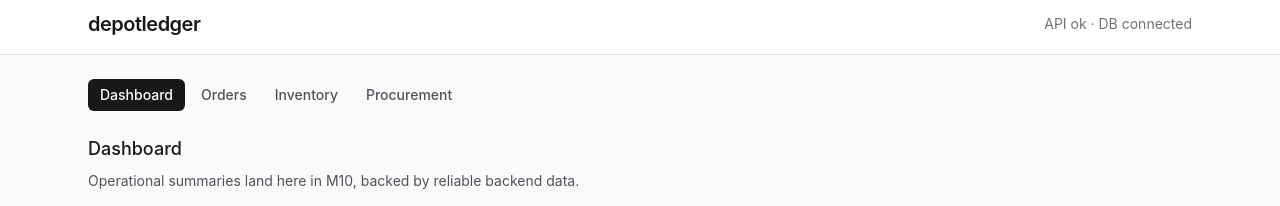
Test: App › switches section content when a tab is selected
The width and height of the screenshot is (1280, 206).
What coordinates should you click on to do the following:
click the tab "Inventory"
I would click on:
 (306, 95)
Its box is [263,79,350,111].
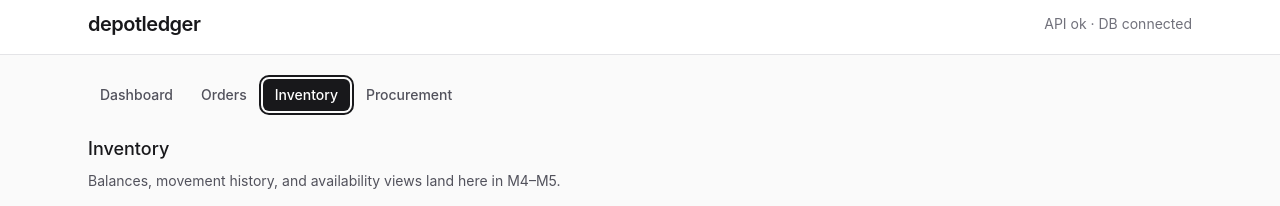
Expected: the text "movement history" is shown, [88,172,560,189]
